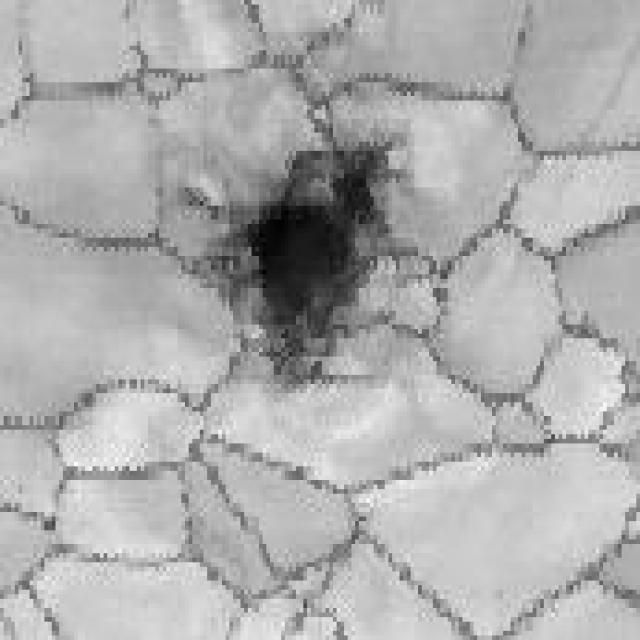good_void: (176, 133, 409, 392)
